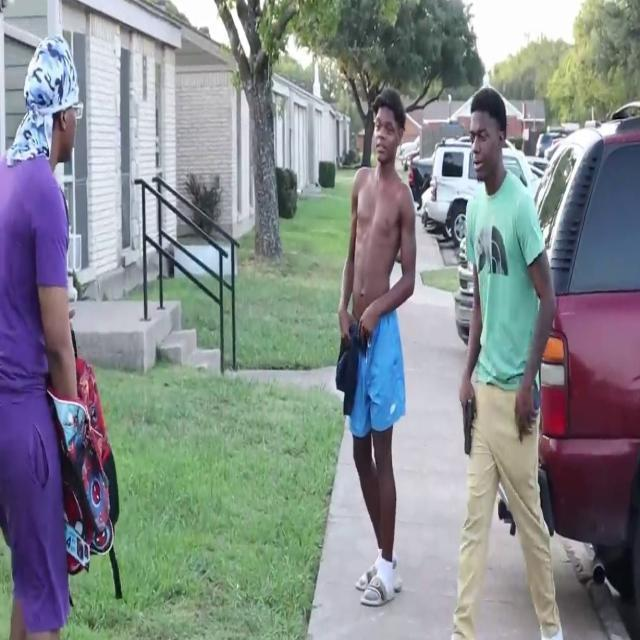Handgun: (459, 380, 481, 460)
